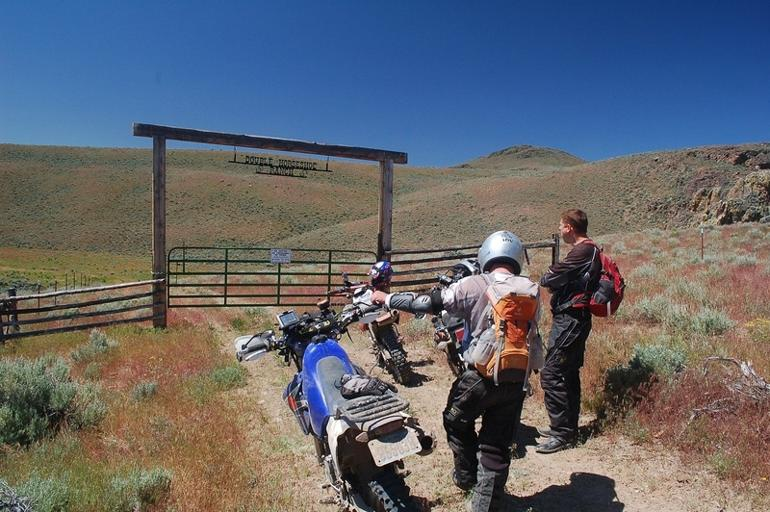non-vehicle: (231, 294, 438, 511), (324, 260, 421, 388), (413, 258, 480, 377)
